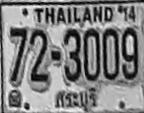0: (83, 28, 99, 80), (102, 29, 118, 80)
2: (30, 28, 49, 81)
3: (62, 28, 80, 82)
7: (9, 27, 28, 82)
9: (121, 28, 139, 80)
SRI: (54, 87, 100, 113)
